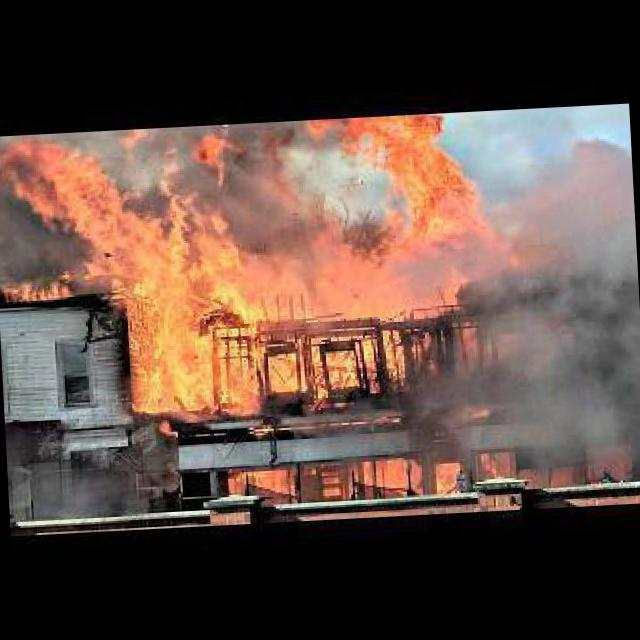Fire: (2, 111, 507, 428)
Smoke: (435, 135, 640, 481)
